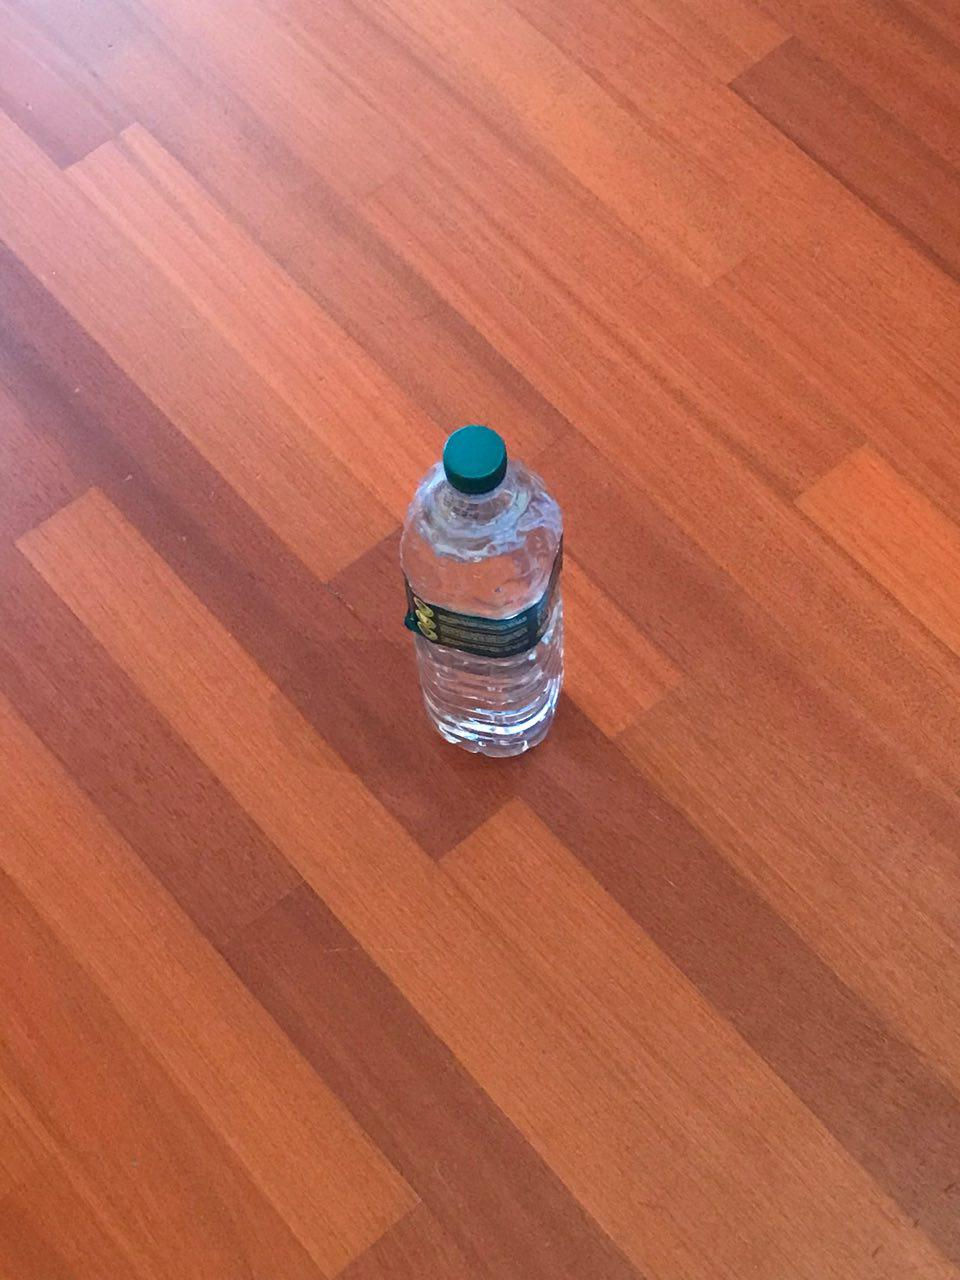san_bernardo: (398, 421, 567, 761)
